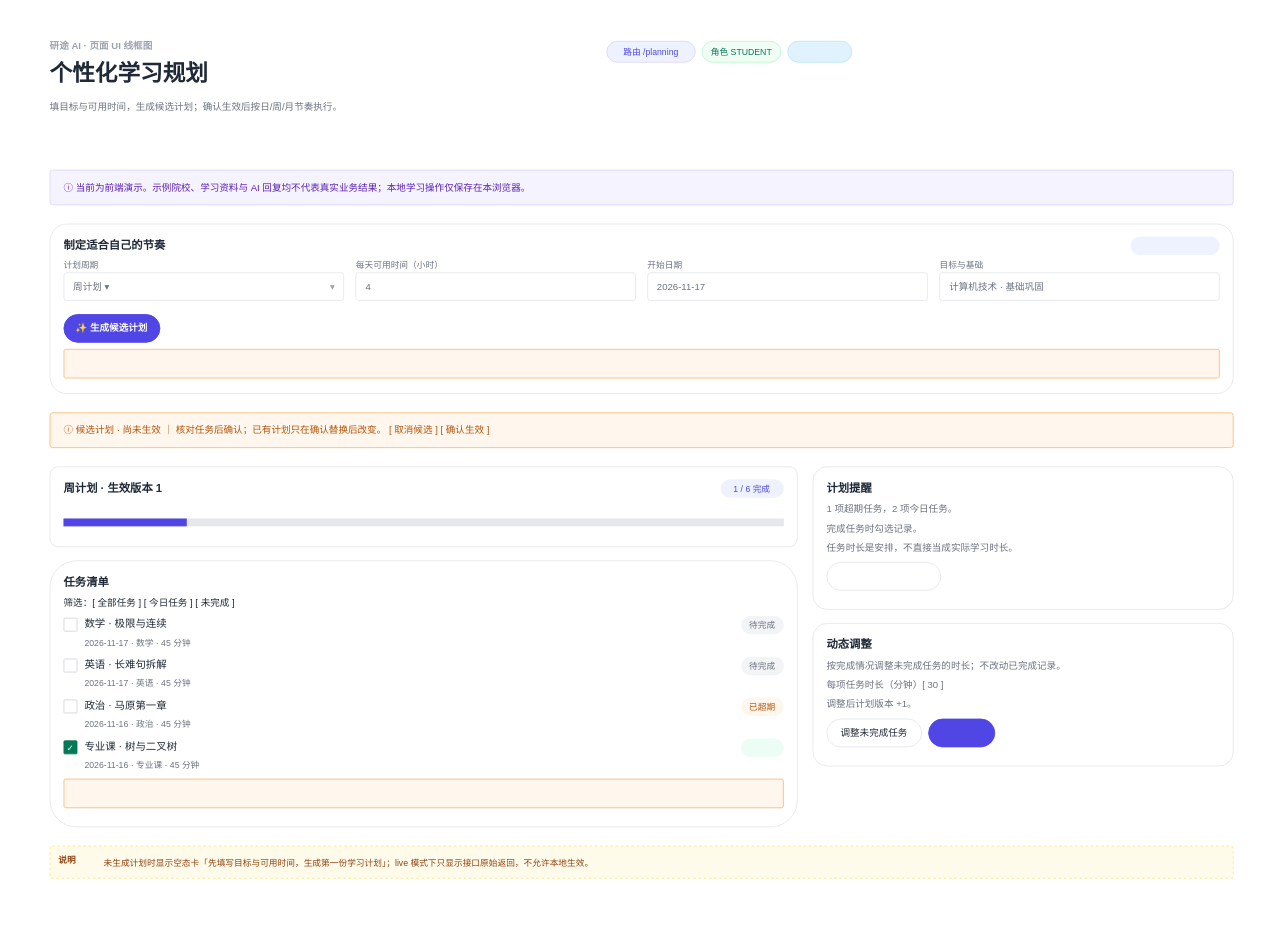
This 1284x938 diagram has some shape labels left out. The shapes that lost their labels are listed below. From the top down, each one's centre as x and y in pixels, then its label:
[819,51]: 模式 demo
[1174,245]: 日 / 周 / 月计划
[641,363]: 演示按四科学习时间均分；个性化 AI 编排待后端实现。
[883,576]: 与陪伴伙伴一起执行
[762,747]: 已完成
[961,732]: 确认调整
[423,793]: 任务行状态：已完成（绿）/ 已超期（橙）/ 待完成；勾选写回 store。
